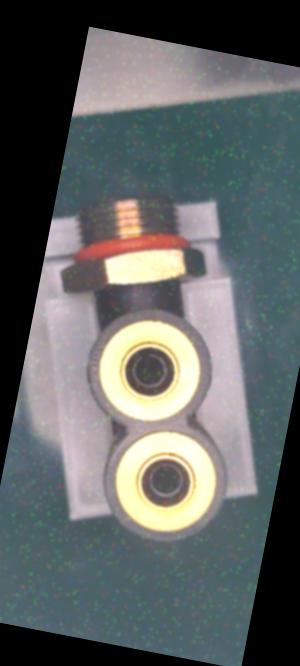white mark: (127, 283, 138, 293)
